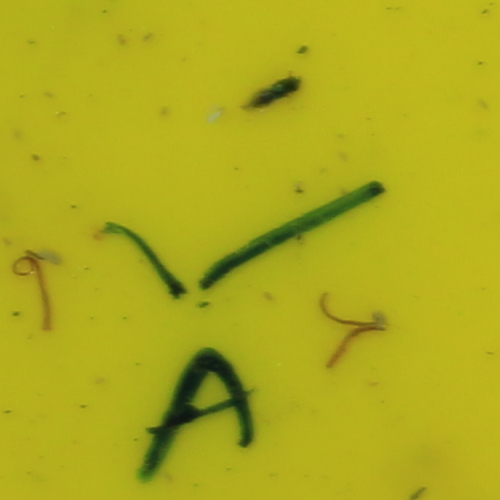wasp: (241, 69, 302, 111)
